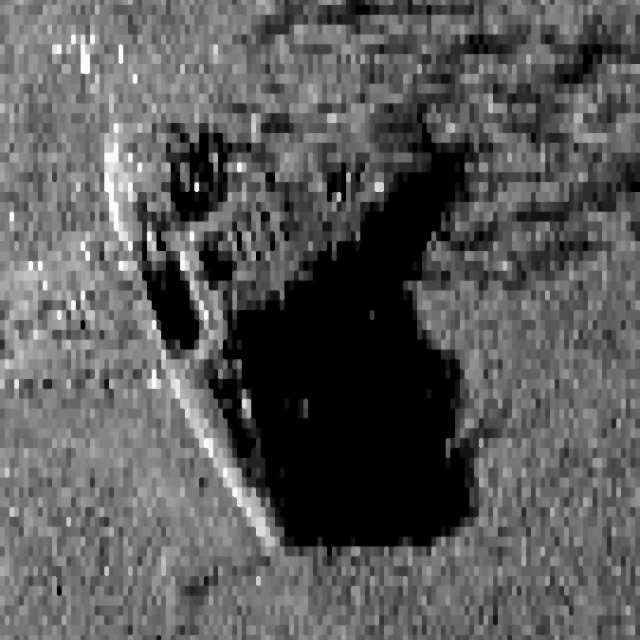Ship: (59, 20, 314, 578)
